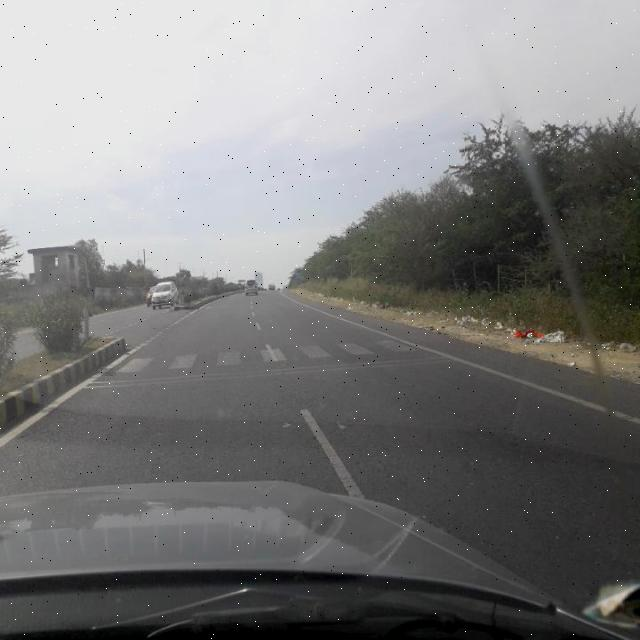D43: (102, 322, 449, 393)
